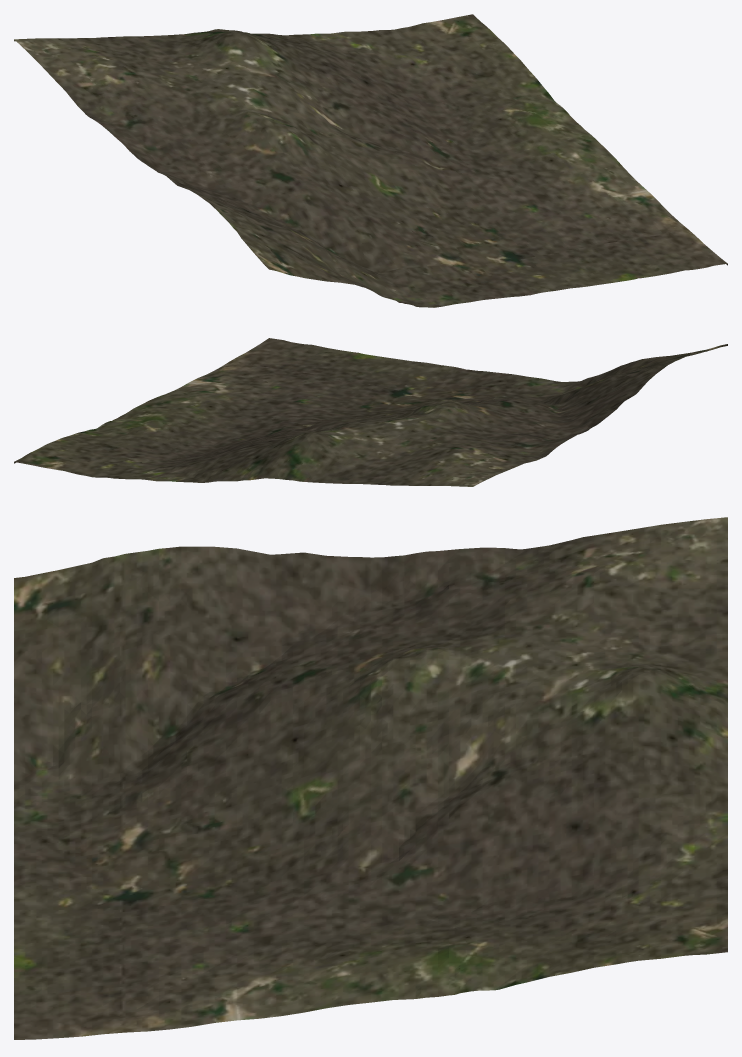
3 views of the same model, one above another, from view 1: azimuth 30°, elevation 25°; view 2: azimuth 150°, elevation 25°; view 3: azimuth 270°, elevation 25° (orthographic). The views are drawn at different scales.
Bounding box in the file's own units: 250 × 78.91 × 241.
Materials: 1 (1 with a texture image).
